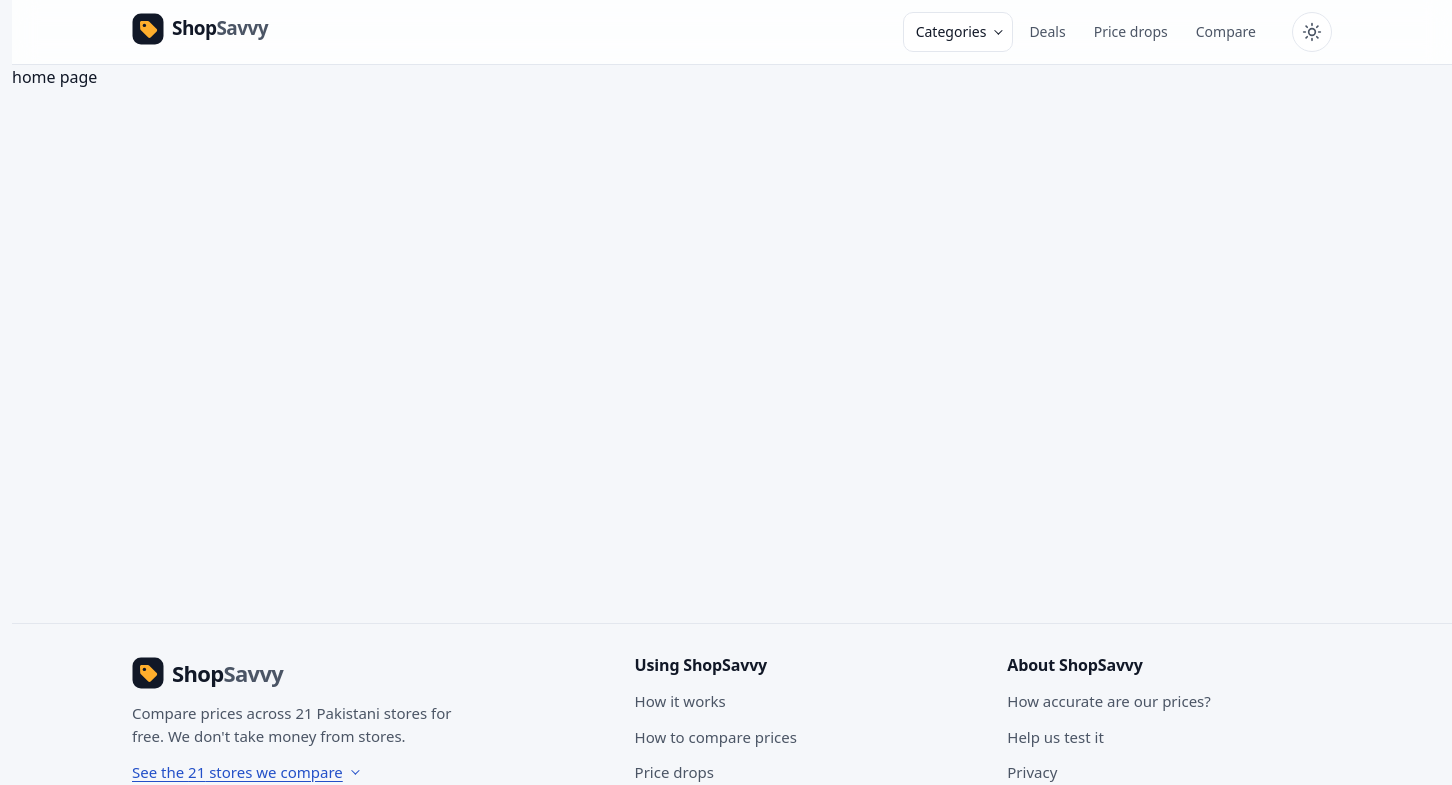
Test: Verified deals page › is where the header's Deals link goes
Click the link "Deals".
click(1048, 32)  # box [1029,22,1066,41]
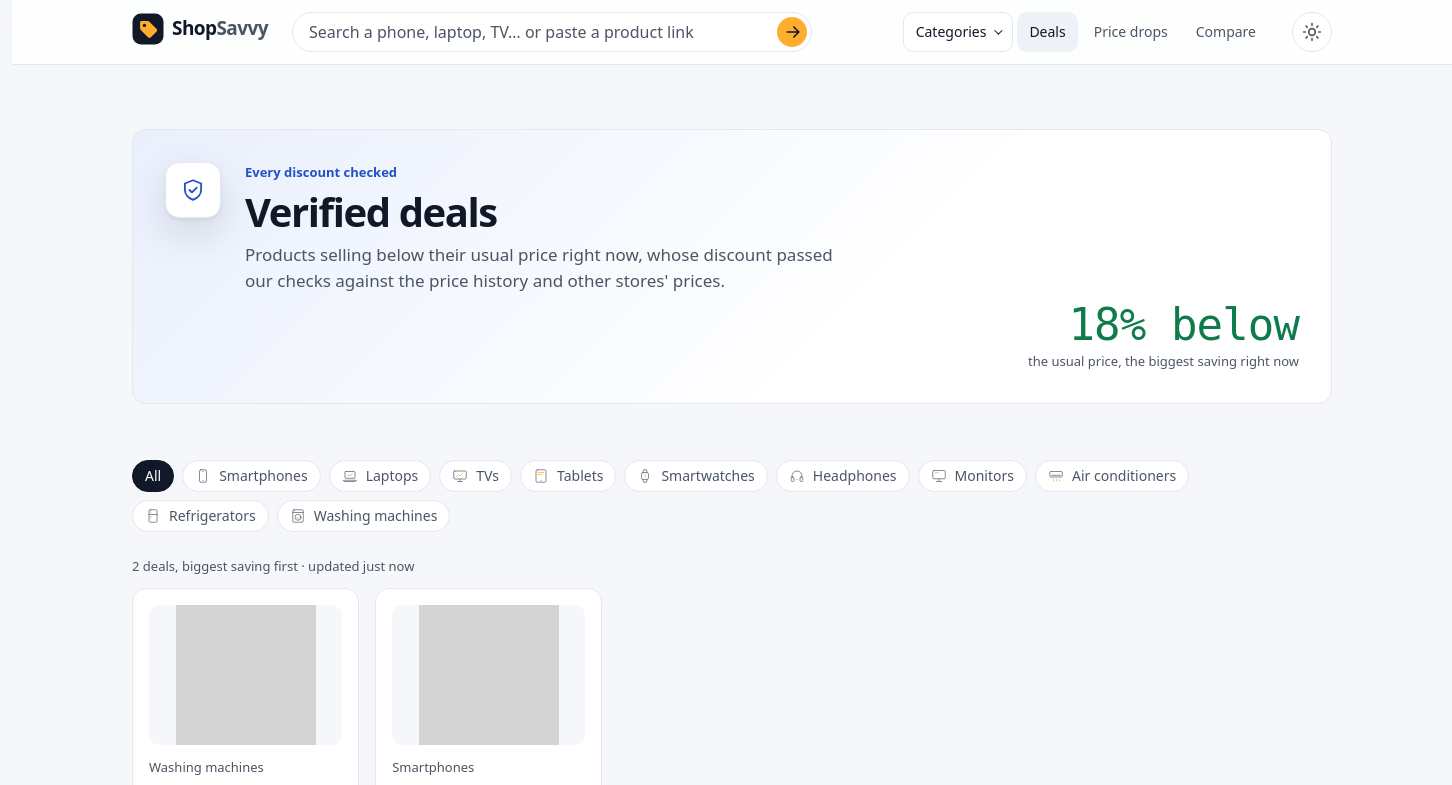
Expected: the heading "Verified deals" is shown, [245,184,497,239]
